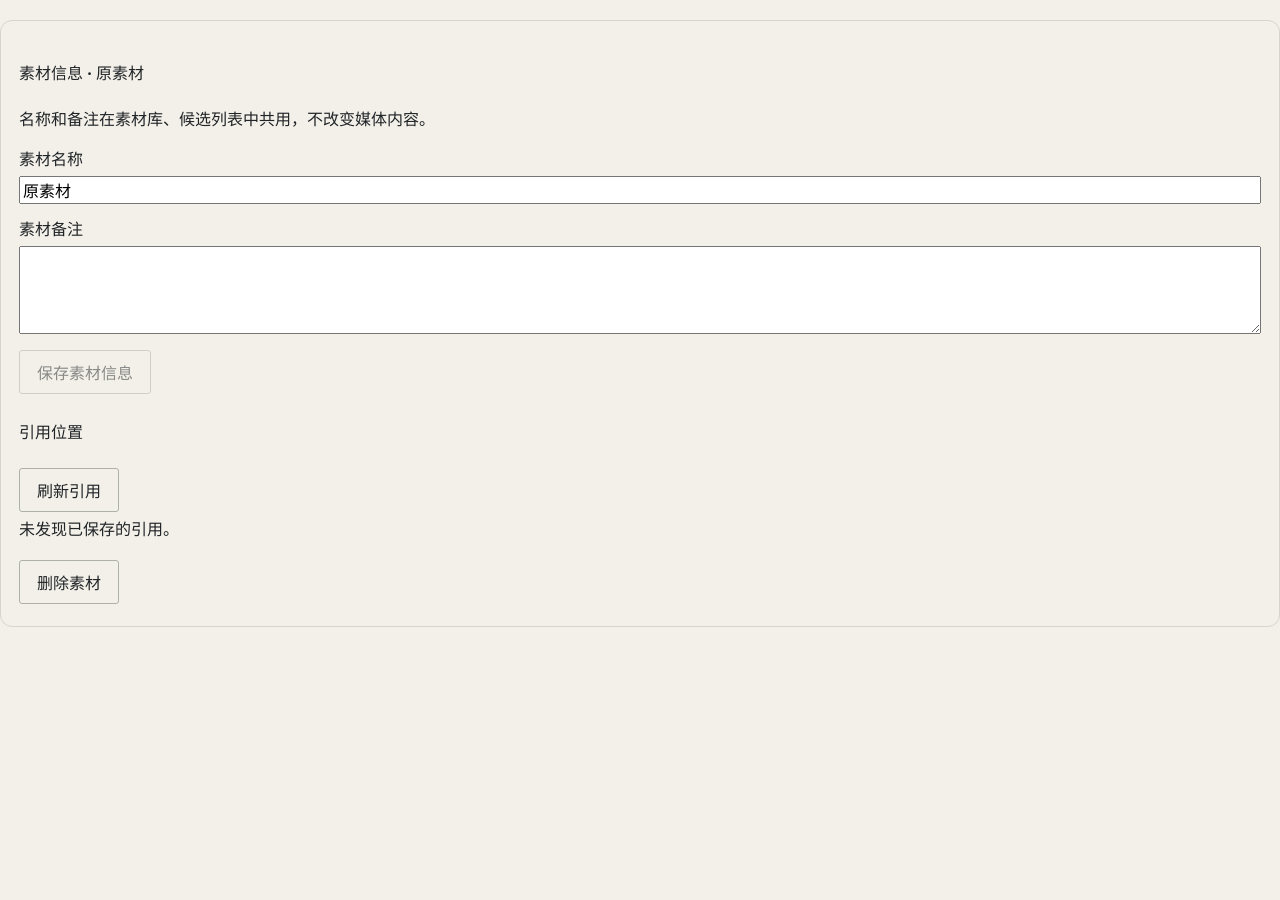
Scenario: 删除前再次阻止未保存的时间线草稿
Expected: the text "未发现已保存的引用。" is shown, [19,518,179,540]
Click the button "删除素材" at (69, 582), box [19,560,119,604]
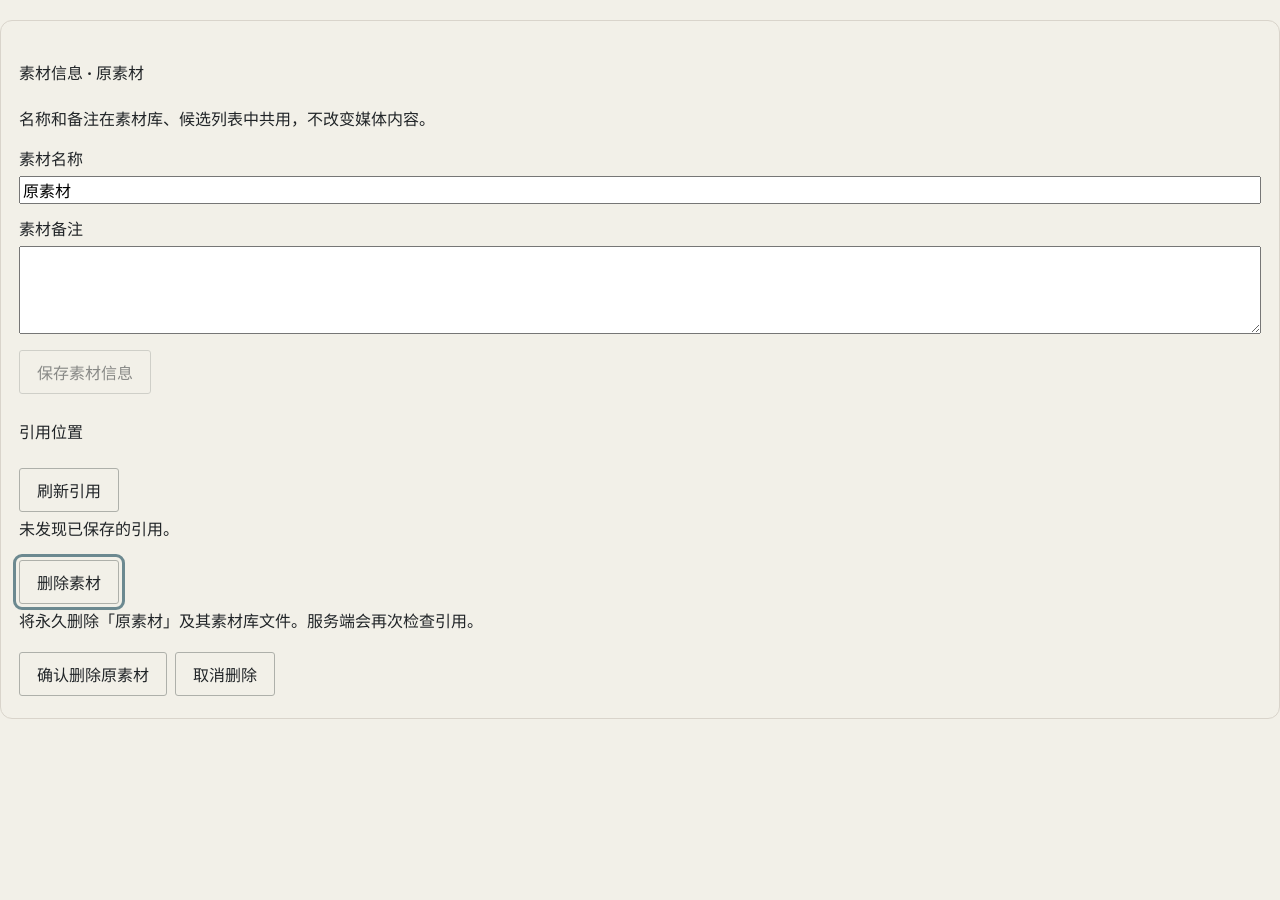
Click the button "确认删除原素材" at (93, 674), box [19,652,167,696]
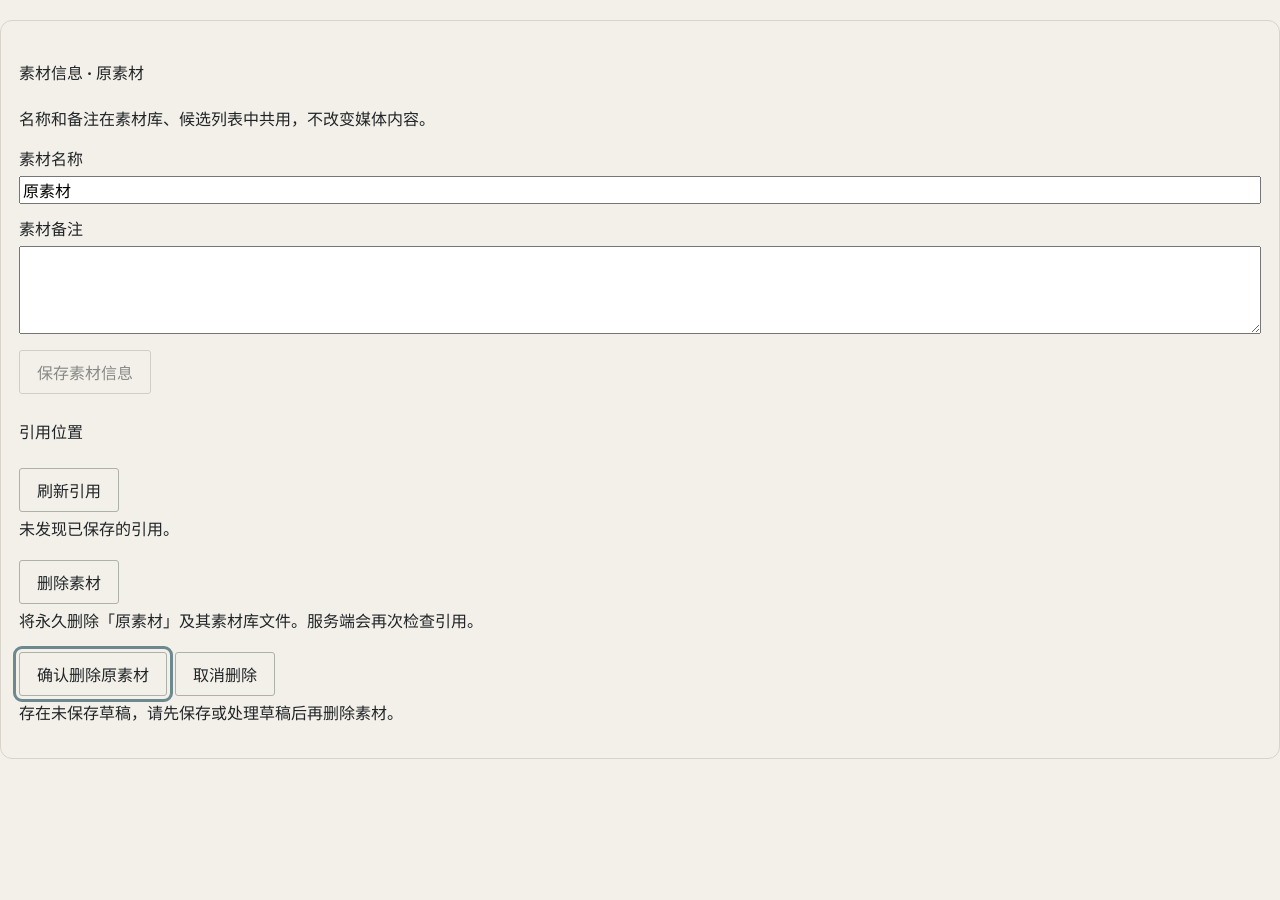
Expected: the message shows "草稿", [19,702,403,724]
